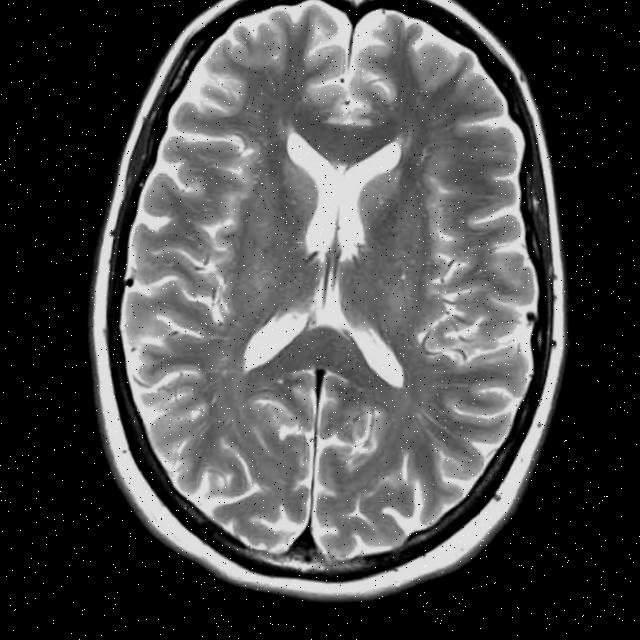NoTumor: (27, 0, 629, 638)
